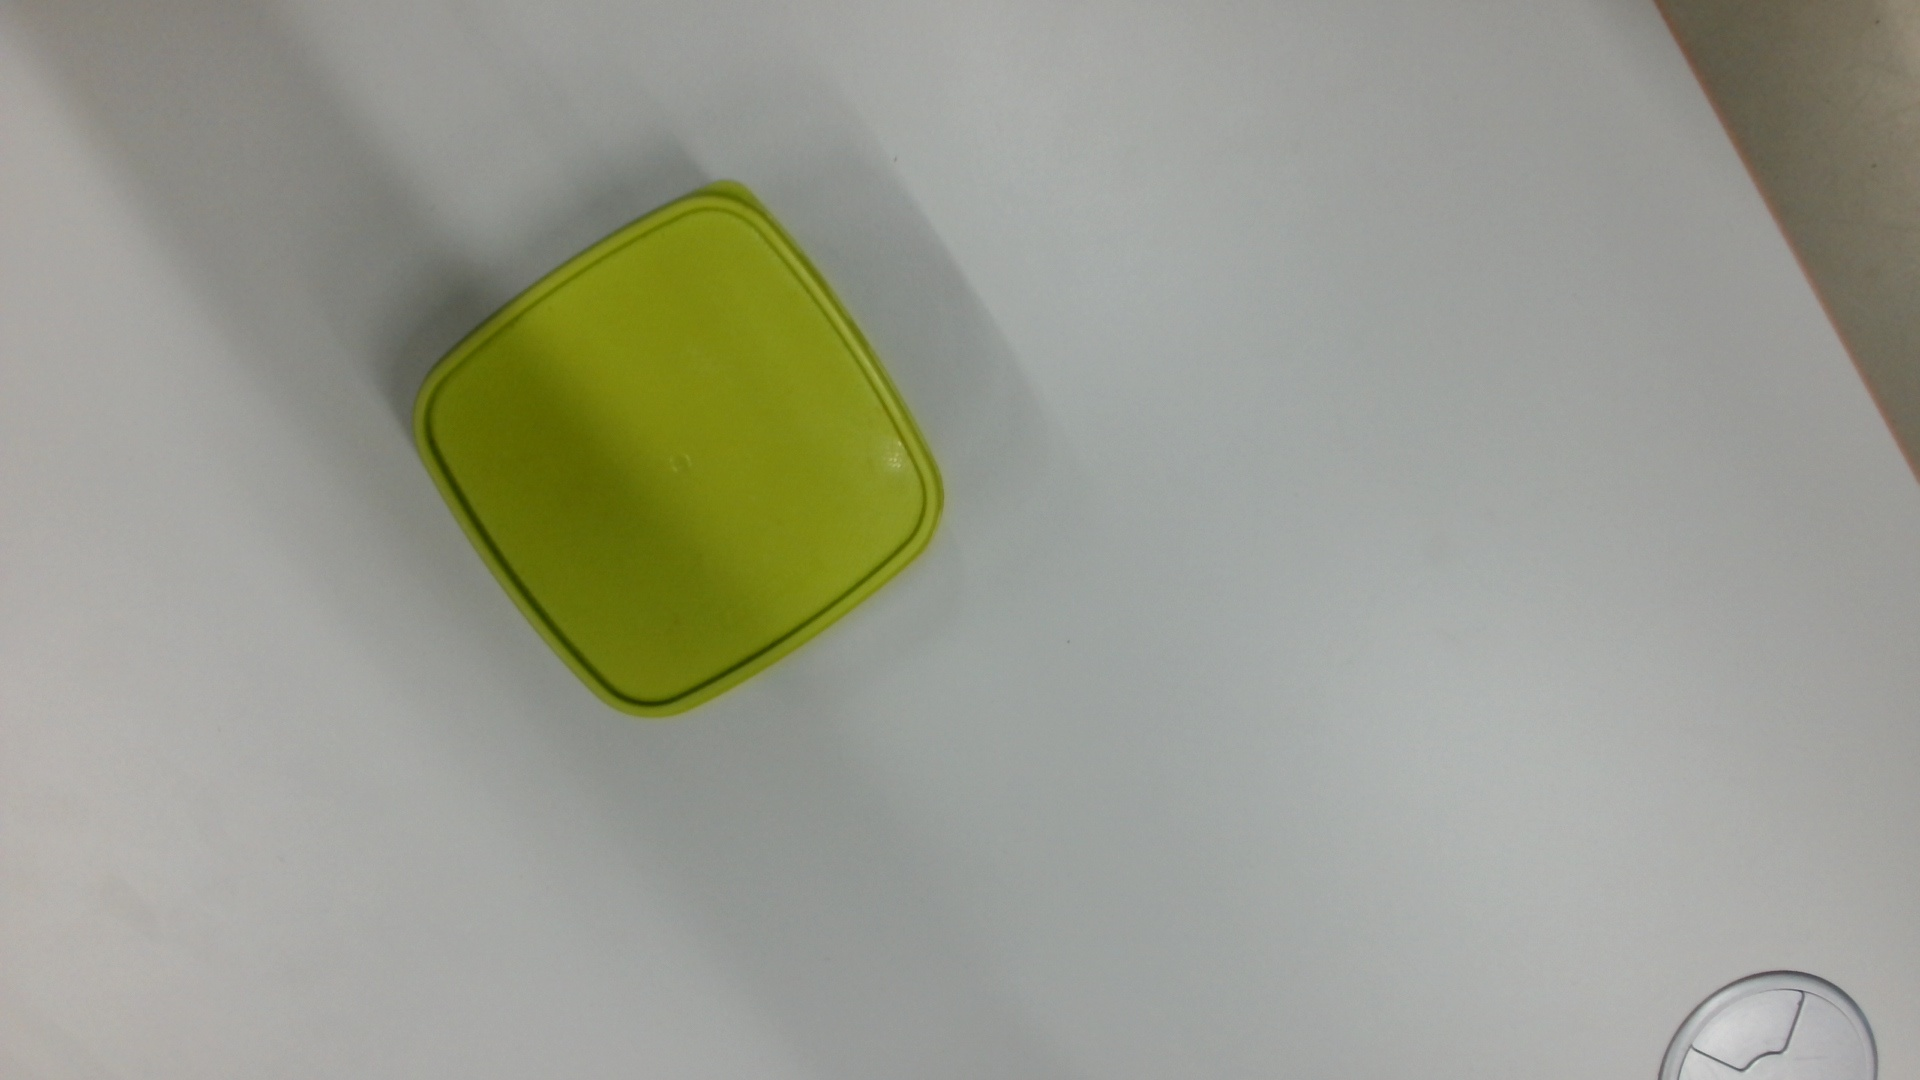Box: (404, 173, 951, 731)
